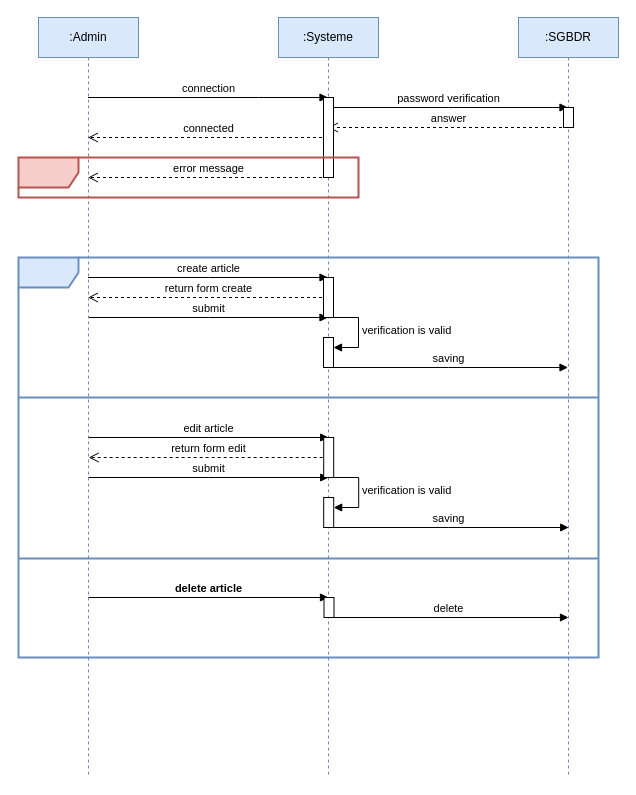
This 636x795 diagram has some shape labels left out. Each missing label, with the centre of its shape:
frame: (308,457)
opt: (188,177)
